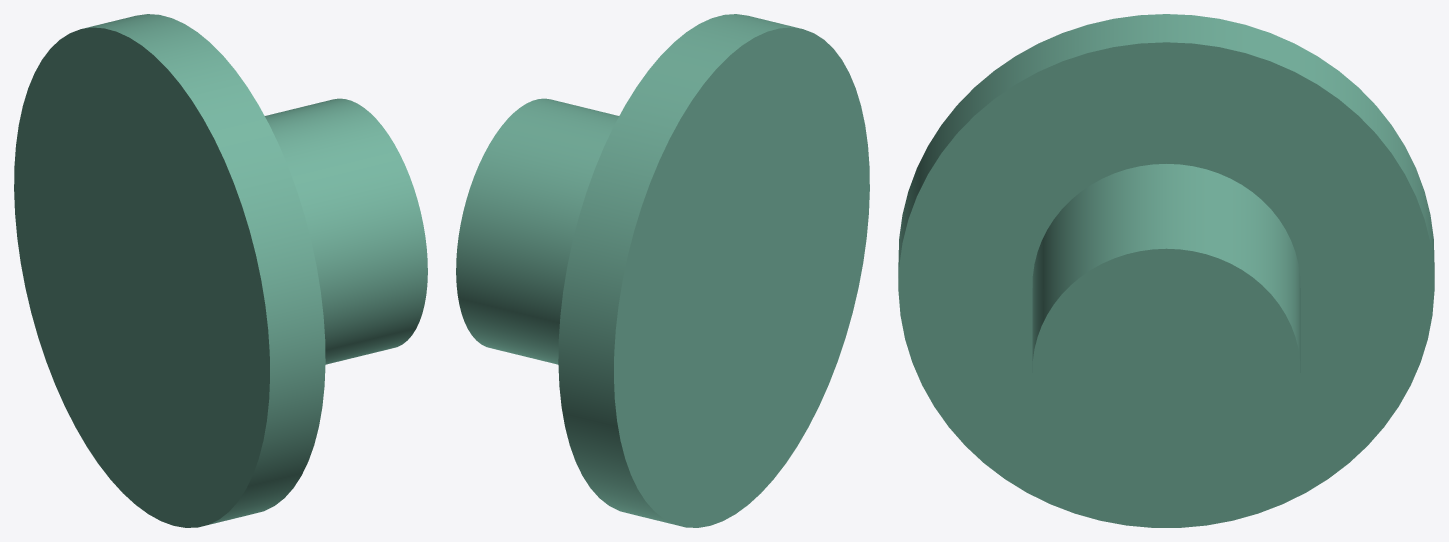
The model's file is step_07.glb.
3 views of the same model, side by side, from view 1: azimuth 30°, elevation 25°; view 2: azimuth 150°, elevation 25°; view 3: azimuth 270°, elevation 25° (orthographic). The views are drawn at different scales.
Parts seen in each view (by area): view 1: part__flange B (recess); view 2: part__flange B (recess); view 3: part__flange B (recess).
Boxes of the visible parts, x1,y1,x2,y2 form: part__flange B (recess): (14,14,427,527); part__flange B (recess): (456,14,869,527); part__flange B (recess): (898,14,1434,527).
Size of the model in its own units: 80 by 160 by 160.
